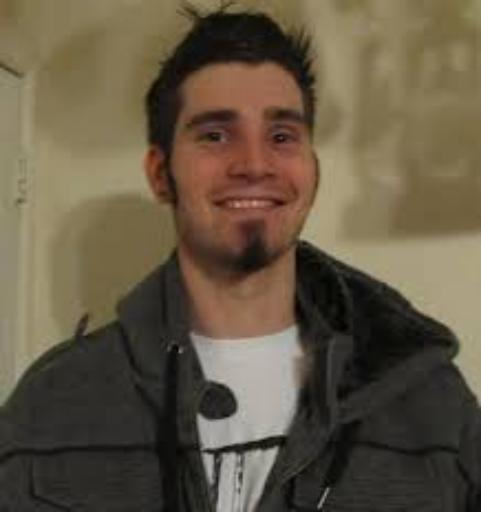left_eye: (270, 133, 297, 148)
left_lip_corner: (277, 197, 293, 210)
right_eye: (194, 131, 234, 148)
right_lip_corner: (209, 197, 226, 212)
